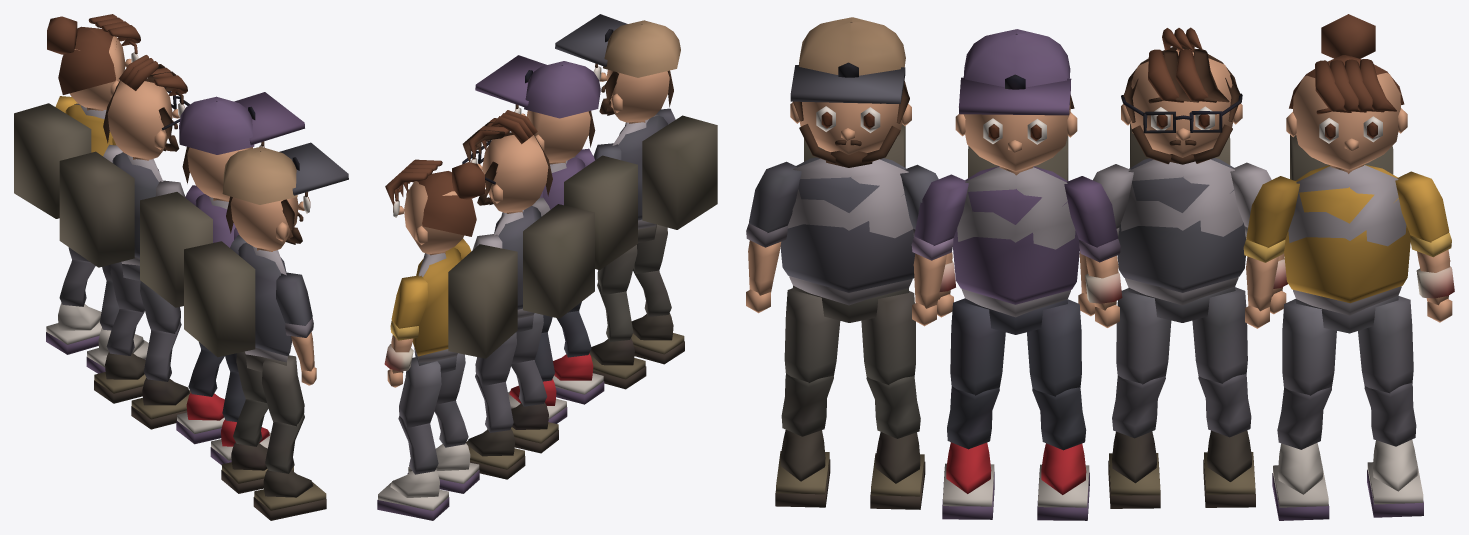
Rendered from npc.survivor-group.aftermath.lod1.glb.
The picture shows the model from 3 angles, left to right: view 1: azimuth 30°, elevation 25°; view 2: azimuth 150°, elevation 25°; view 3: azimuth 270°, elevation 25°; orthographic projection. The views are drawn at different scales.
Parts seen in each view (by area): view 1: torso, survivor03_torso, head, survivor02_head, survivor04_torso, survivor02_torso, survivor03_head, survivor04_head, footR, legR, survivor03_footR, survivor04_footL (+18 smaller); view 2: survivor04_torso, torso, survivor03_torso, head, survivor02_head, survivor04_head, survivor02_torso, survivor03_head, survivor04_footL, survivor04_legL, survivor03_footL, footL (+20 smaller); view 3: survivor04_torso, torso, survivor02_torso, survivor03_torso, head, survivor02_head, survivor04_head, survivor03_head, survivor04_legR, survivor02_legR, survivor02_legL, survivor04_legL (+37 smaller).
Part boxes in pixels (x1=…): torso: x1=184, y1=241, x2=291, y2=362; survivor03_torso: x1=59, y1=151, x2=163, y2=267; head: x1=222, y1=142, x2=348, y2=251; survivor02_head: x1=179, y1=92, x2=304, y2=201; survivor04_torso: x1=14, y1=103, x2=112, y2=218; survivor02_torso: x1=140, y1=192, x2=235, y2=307; survivor03_head: x1=103, y1=55, x2=189, y2=160; survivor04_head: x1=47, y1=14, x2=140, y2=110; footR: x1=253, y1=469, x2=326, y2=520; legR: x1=262, y1=355, x2=304, y2=426; survivor03_footR: x1=131, y1=378, x2=190, y2=429; survivor04_footL: x1=46, y1=302, x2=101, y2=354; survivor04_torso: x1=412, y1=244, x2=517, y2=362; torso: x1=612, y1=114, x2=717, y2=229; survivor03_torso: x1=494, y1=204, x2=594, y2=318; head: x1=555, y1=14, x2=680, y2=123; survivor02_head: x1=475, y1=55, x2=600, y2=164; survivor04_head: x1=385, y1=159, x2=484, y2=255; survivor02_torso: x1=542, y1=155, x2=637, y2=270; survivor03_head: x1=462, y1=110, x2=552, y2=213; survivor04_footL: x1=377, y1=470, x2=449, y2=520; survivor04_legL: x1=399, y1=357, x2=441, y2=427; survivor03_footL: x1=466, y1=429, x2=525, y2=479; footL: x1=589, y1=338, x2=646, y2=389; survivor04_torso: x1=1284, y1=135, x2=1410, y2=315; torso: x1=780, y1=124, x2=915, y2=305; survivor02_torso: x1=953, y1=135, x2=1079, y2=317; survivor03_torso: x1=1117, y1=123, x2=1246, y2=305; head: x1=790, y1=17, x2=911, y2=167; survivor02_head: x1=955, y1=29, x2=1077, y2=175; survivor04_head: x1=1286, y1=14, x2=1407, y2=173; survivor03_head: x1=1121, y1=27, x2=1242, y2=164; survivor04_legR: x1=1282, y1=299, x2=1336, y2=395; survivor02_legR: x1=950, y1=298, x2=1005, y2=395; survivor02_legL: x1=1027, y1=299, x2=1081, y2=396; survivor04_legL: x1=1358, y1=296, x2=1413, y2=393.
Bounding box in the file's own units: 0.7924 × 1.79 × 2.5.
